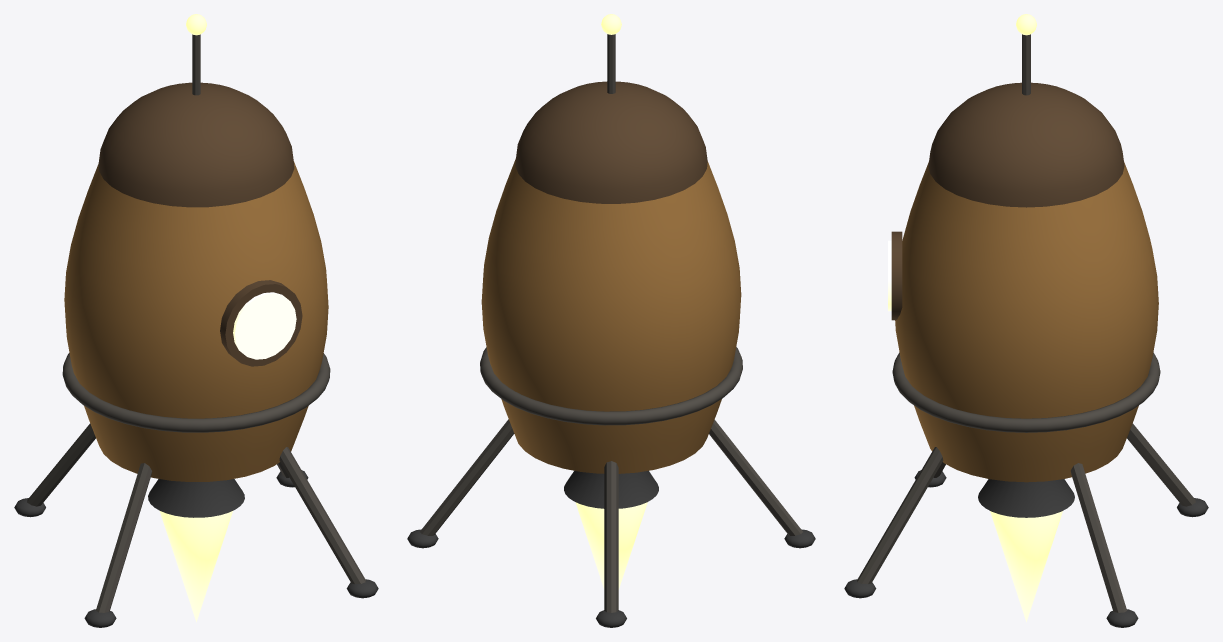
File: Rocket_21_BronzeLander.fbx
3 views of the same model, side by side, from view 1: azimuth 30°, elevation 25°; view 2: azimuth 150°, elevation 25°; view 3: azimuth 270°, elevation 25° (orthographic).
Visible parts, largest first — view 1: R21_Body, R21_Nose, R21_Ring_1, R21_Flame_1, R21_Window_1, R21_Nozzle_1, R21_WindowFrame_1, R21_Leg_4, R21_Leg_3, R21_Leg_2, R21_Antenna; view 2: R21_Body, R21_Nose, R21_Ring_1, R21_Nozzle_1, R21_Flame_1, R21_Leg_2, R21_Leg_1, R21_Leg_3; view 3: R21_Body, R21_Nose, R21_Ring_1, R21_Flame_1, R21_Nozzle_1, R21_Leg_4, R21_Leg_1, R21_Leg_2, R21_WindowFrame_1, R21_Antenna.
Part boxes in pixels (x1,y1,x2,y2): R21_Body: [64, 161, 328, 481]; R21_Nose: [98, 82, 294, 207]; R21_Ring_1: [62, 353, 330, 432]; R21_Flame_1: [159, 511, 232, 622]; R21_Window_1: [233, 292, 296, 359]; R21_Nozzle_1: [148, 479, 244, 517]; R21_WindowFrame_1: [220, 280, 302, 366]; R21_Leg_4: [279, 447, 365, 583]; R21_Leg_3: [96, 463, 151, 612]; R21_Leg_2: [27, 423, 95, 506]; R21_Antenna: [192, 34, 200, 95]; R21_Body: [481, 158, 741, 473]; R21_Nose: [515, 81, 707, 203]; R21_Ring_1: [480, 347, 742, 425]; R21_Nozzle_1: [564, 470, 658, 508]; R21_Flame_1: [575, 502, 647, 589]; R21_Leg_2: [604, 461, 618, 612]; R21_Leg_1: [420, 419, 514, 535]; R21_Leg_3: [709, 419, 802, 535]; R21_Body: [895, 162, 1158, 482]; R21_Nose: [928, 82, 1124, 207]; R21_Ring_1: [892, 352, 1160, 432]; R21_Flame_1: [990, 511, 1062, 622]; R21_Nozzle_1: [978, 479, 1074, 517]; R21_Leg_4: [857, 447, 943, 583]; R21_Leg_1: [1070, 463, 1126, 612]; R21_Leg_2: [1127, 423, 1195, 506]; R21_WindowFrame_1: [891, 231, 902, 320]; R21_Antenna: [1022, 34, 1030, 95].
Bounding box in the file's own units: 4.09 × 7.52 × 4.09.
